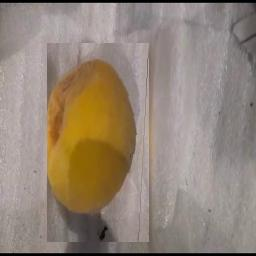Peach Rotten: (48, 43, 150, 242)
